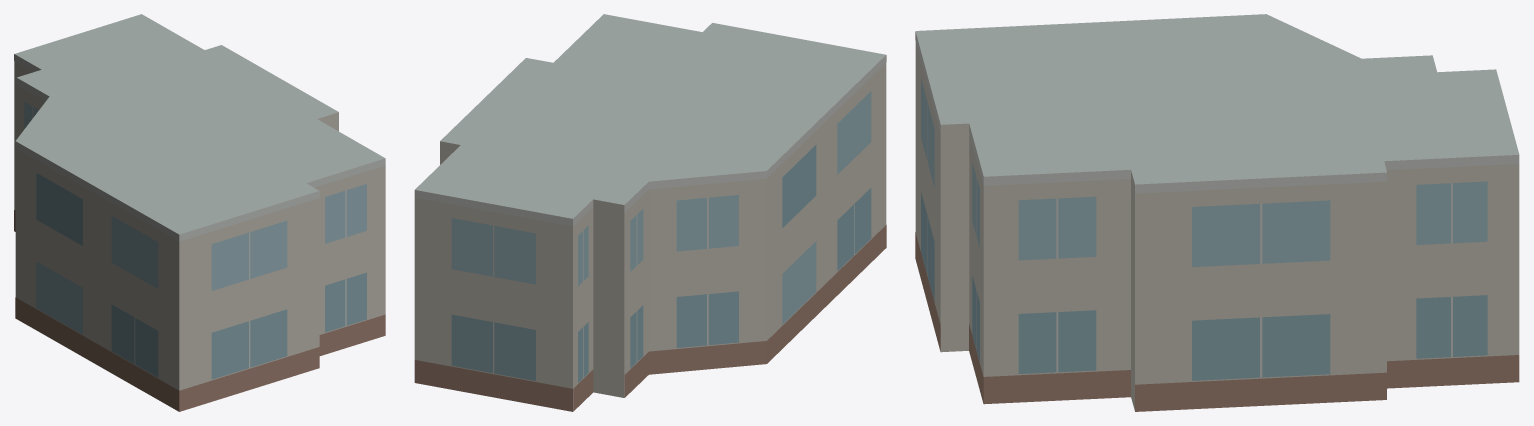
File: survey-upis-32780421.glb
3 renders of one model, left to right at view 1: azimuth 30°, elevation 25°; view 2: azimuth 150°, elevation 25°; view 3: azimuth 270°, elevation 25°, orthographic. The views are drawn at different scales.
Parts seen in each view (by area): view 1: survey-upis-32780421.tmp; view 2: survey-upis-32780421.tmp; view 3: survey-upis-32780421.tmp.
Boxes of the visible parts, x1,y1,x2,y2 form: survey-upis-32780421.tmp: [14, 14, 385, 411]; survey-upis-32780421.tmp: [414, 14, 886, 411]; survey-upis-32780421.tmp: [915, 14, 1519, 411].
Size of the model in its own units: 9.82 by 6.1 by 14.7.
